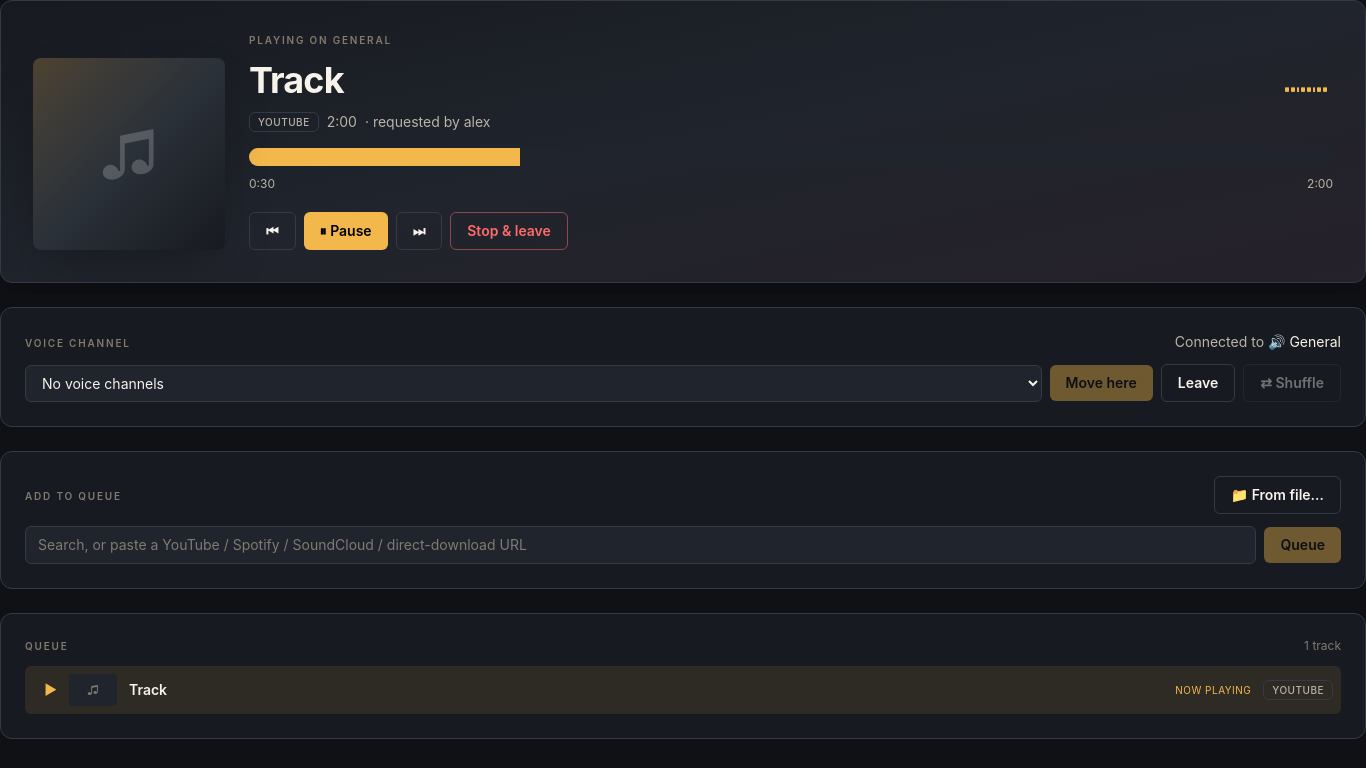
Test: DashboardPage seek › restores the previous elapsed value if seek fails
The image size is (1366, 768).
Step 1. Set the slider named "Seek" to "96" → [1111, 157], box [249, 148, 1333, 166]
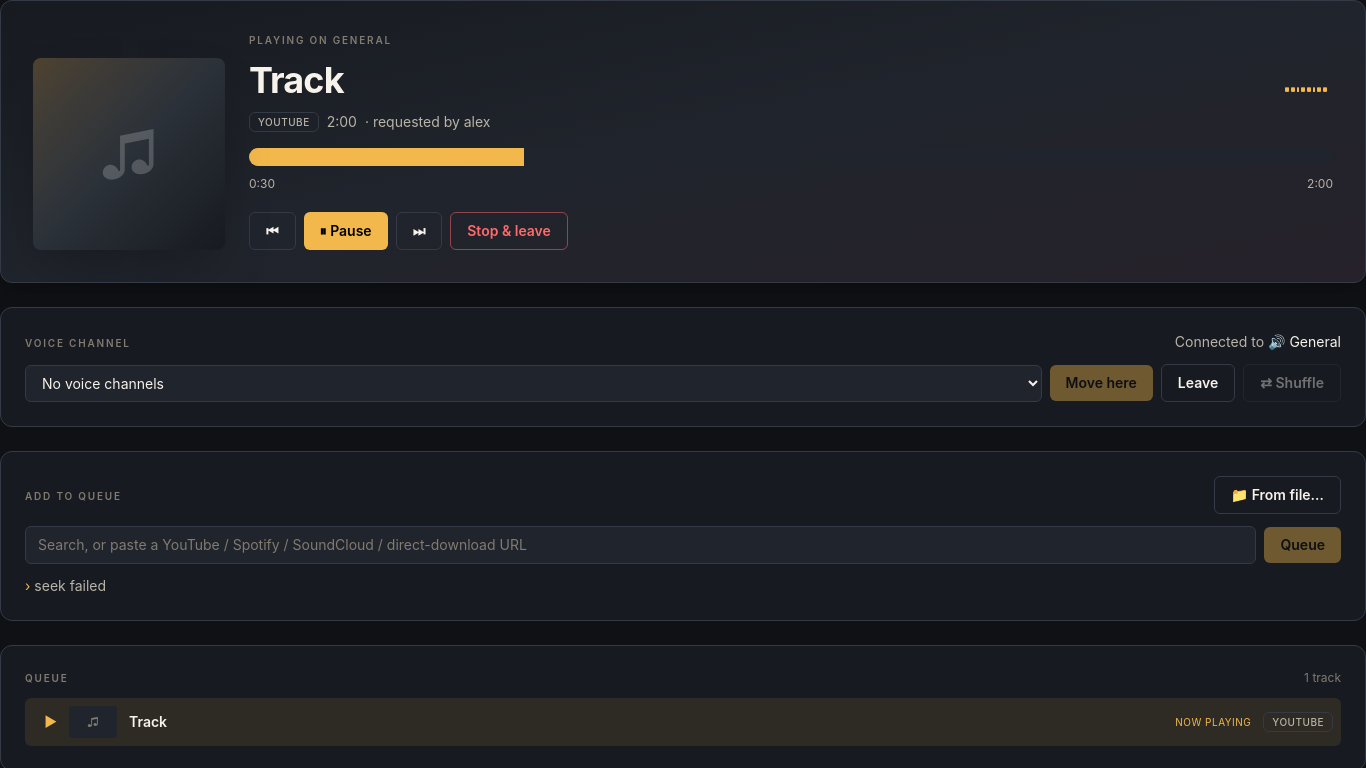
Check: the text "› seek failed" is shown, box [25, 577, 106, 594]
